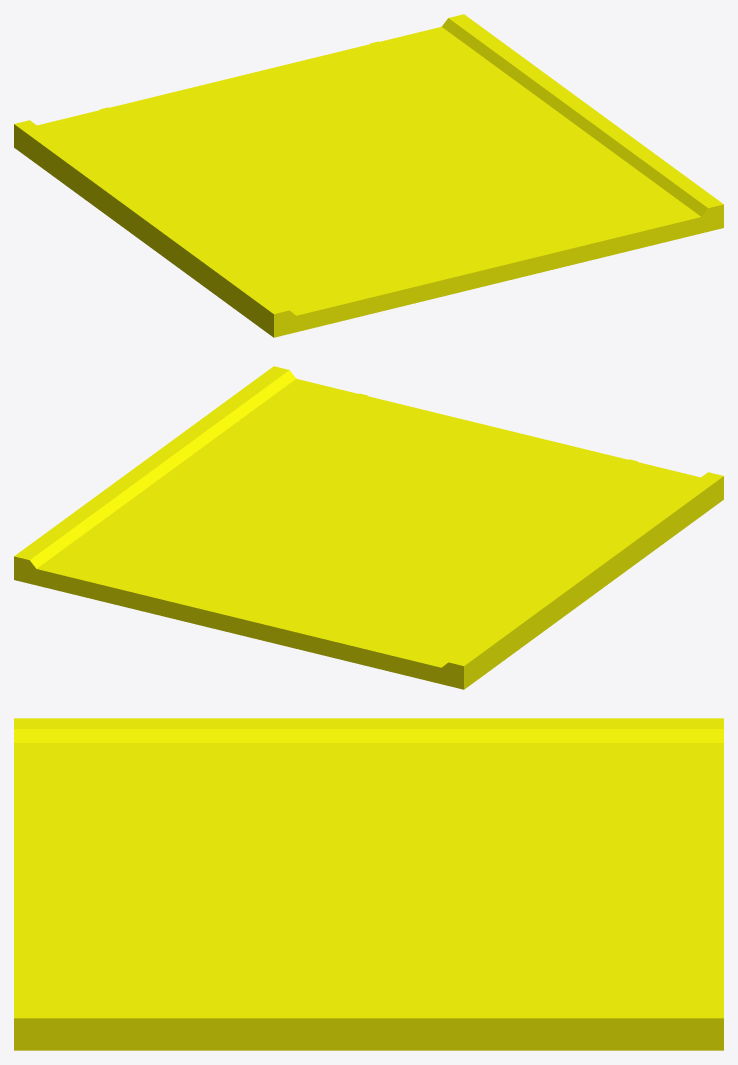
Rendered from kaykit-road-straight-crossing.glb.
3 renders of one model, top to bottom at view 1: azimuth 30°, elevation 25°; view 2: azimuth 150°, elevation 25°; view 3: azimuth 270°, elevation 25°, orthographic. The views are drawn at different scales.
Parts seen in each view (by area): view 1: road_straight_crossing; view 2: road_straight_crossing; view 3: road_straight_crossing.
Part boxes in pixels (left/top/right/bottom): road_straight_crossing: left=14, top=14, right=723, bottom=337; road_straight_crossing: left=14, top=366, right=723, bottom=689; road_straight_crossing: left=14, top=718, right=723, bottom=1050.
Bounding box in the file's own units: 2 × 0.1001 × 2.
